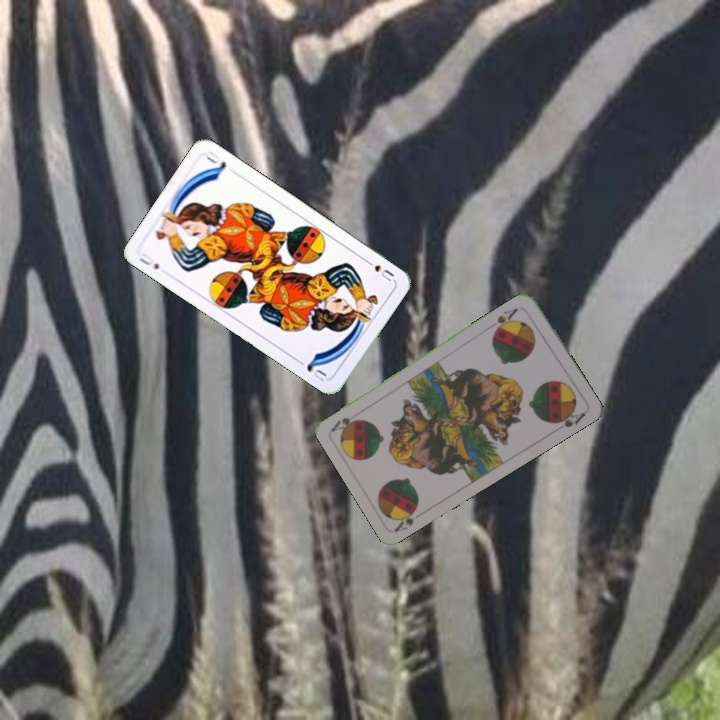SA: (491, 304, 521, 335), (391, 503, 420, 534)
SU: (360, 255, 397, 284), (135, 249, 162, 272)
